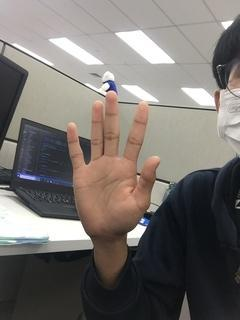hand: (66, 90, 163, 240)
